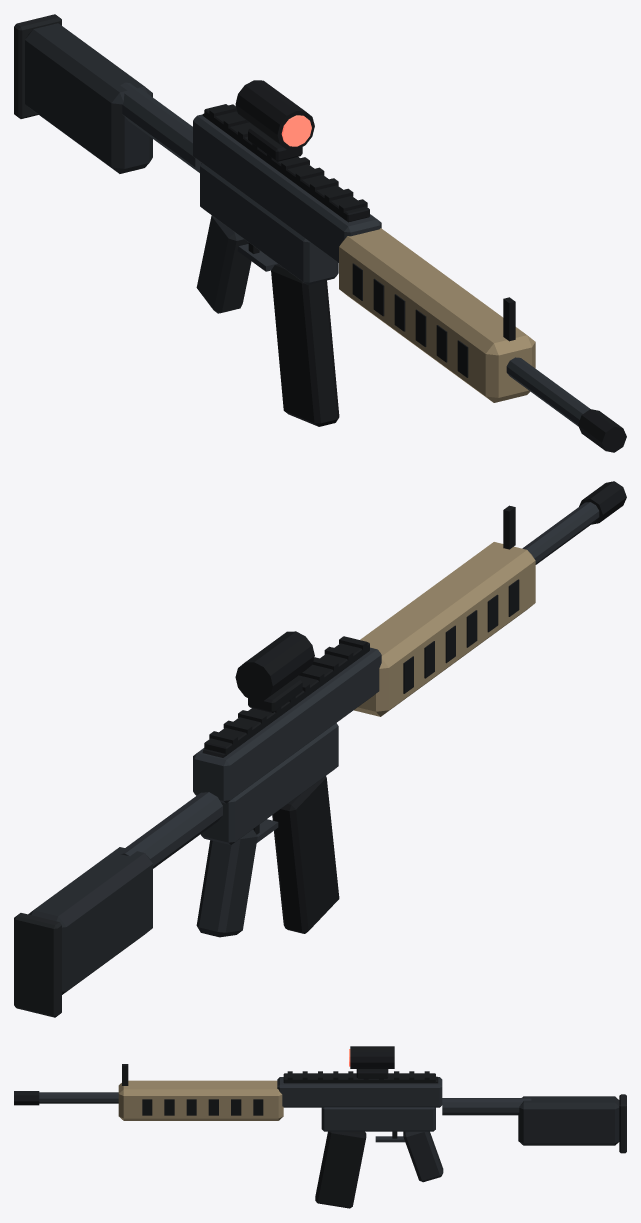
Rendered from Weapon_Rifle.fbx.
3 renders of one model, top to bottom at view 1: azimuth 30°, elevation 25°; view 2: azimuth 150°, elevation 25°; view 3: azimuth 270°, elevation 25°, orthographic. The views are drawn at different scales.
Visible parts, largest first — view 1: Handguard, Stock.001, Magazine.002, Upper, Lower, Grip.002, BufferTube, Optic, Rail, Barrel.001, ButtPad.001, FlashHider (+2 smaller); view 2: Handguard, Stock.001, Upper, Magazine.002, Lower, ButtPad.001, Grip.002, Optic, BufferTube, Rail, Barrel.001, FlashHider (+1 smaller); view 3: Handguard, Stock.001, Upper, Magazine.002, Lower, BufferTube, Grip.002, Rail, Optic, Barrel.001, ButtPad.001, FlashHider (+1 smaller).
Part boxes in pixels (<box>): Handguard: <box>339,228,535,402</box>; Stock.001: <box>25,23,152,173</box>; Magazine.002: <box>271,264,339,426</box>; Upper: <box>193,114,381,262</box>; Lower: <box>200,163,338,284</box>; Grip.002: <box>196,215,251,313</box>; BufferTube: <box>120,82,201,172</box>; Optic: <box>235,80,314,149</box>; Rail: <box>204,104,369,222</box>; Barrel.001: <box>506,357,590,426</box>; ButtPad.001: <box>14,14,61,118</box>; FlashHider: <box>578,409,626,452</box>; Handguard: <box>354,542,535,716</box>; Stock.001: <box>28,847,152,994</box>; Upper: <box>193,647,381,803</box>; Magazine.002: <box>272,776,339,933</box>; Lower: <box>200,723,338,844</box>; ButtPad.001: <box>14,913,61,1017</box>; Grip.002: <box>196,829,257,937</box>; Optic: <box>235,631,314,701</box>; BufferTube: <box>121,792,222,868</box>; Rail: <box>204,642,369,755</box>; Barrel.001: <box>522,502,599,564</box>; FlashHider: <box>579,481,626,524</box>; Handguard: <box>118,1080,283,1120</box>; Stock.001: <box>518,1096,619,1145</box>; Upper: <box>277,1077,442,1107</box>; Magazine.002: <box>315,1131,366,1208</box>; Lower: <box>321,1107,435,1131</box>; BufferTube: <box>442,1098,531,1115</box>; Grip.002: <box>403,1131,443,1182</box>; Rail: <box>283,1073,435,1083</box>; Optic: <box>350,1046,394,1068</box>; Barrel.001: <box>39,1092,118,1103</box>; ButtPad.001: <box>619,1094,626,1153</box>; FlashHider: <box>14,1091,39,1105</box>.
Size of the model in its own units: 0.05 by 0.2765 by 0.966.
